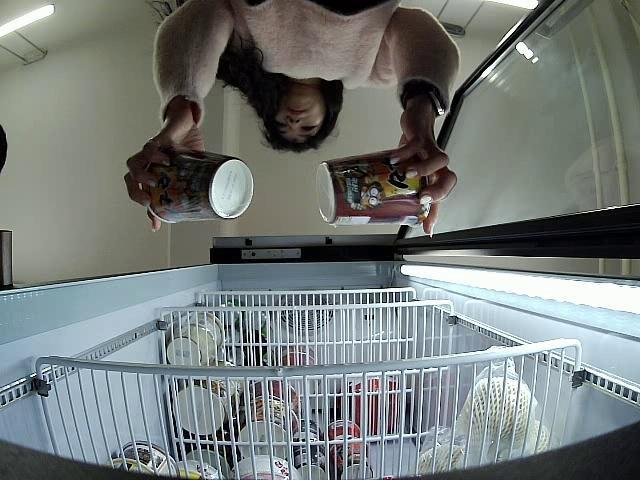06_nuguri_S: (318, 148, 430, 224), (142, 149, 255, 222)
